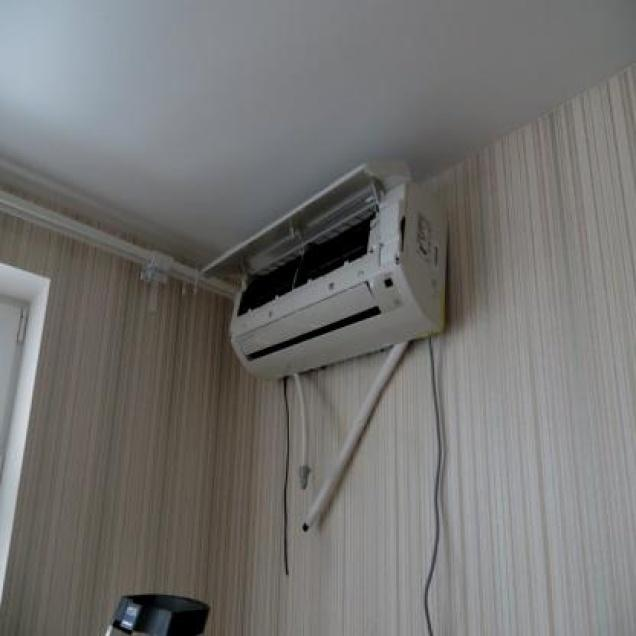AC: (200, 159, 449, 384)
